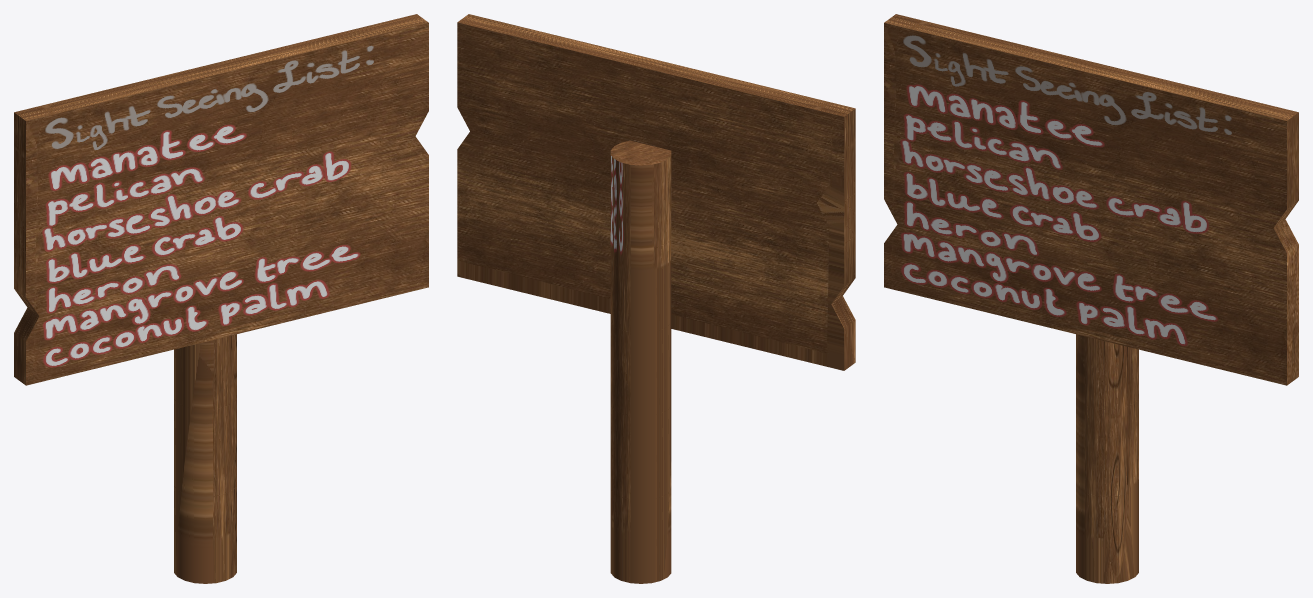
File: signMMfbx.fbx
The picture shows the model from 3 angles, left to right: view 1: azimuth 30°, elevation 25°; view 2: azimuth 150°, elevation 25°; view 3: azimuth 330°, elevation 25°; orthographic projection. The views are drawn at different scales.
Visible parts, largest first — view 1: pCube1, pCylinder1; view 2: pCube1, pCylinder1; view 3: pCube1, pCylinder1.
Boxes of the visible parts, <box> form: pCube1: <box>14,14,428,385</box>; pCylinder1: <box>174,334,236,583</box>; pCube1: <box>457,14,855,370</box>; pCylinder1: <box>610,140,671,583</box>; pCube1: <box>884,14,1298,385</box>; pCylinder1: <box>1076,334,1138,583</box>.
Size of the model in its own units: 138 by 169 by 22.47.
Materials: 1 (1 with a texture image).
